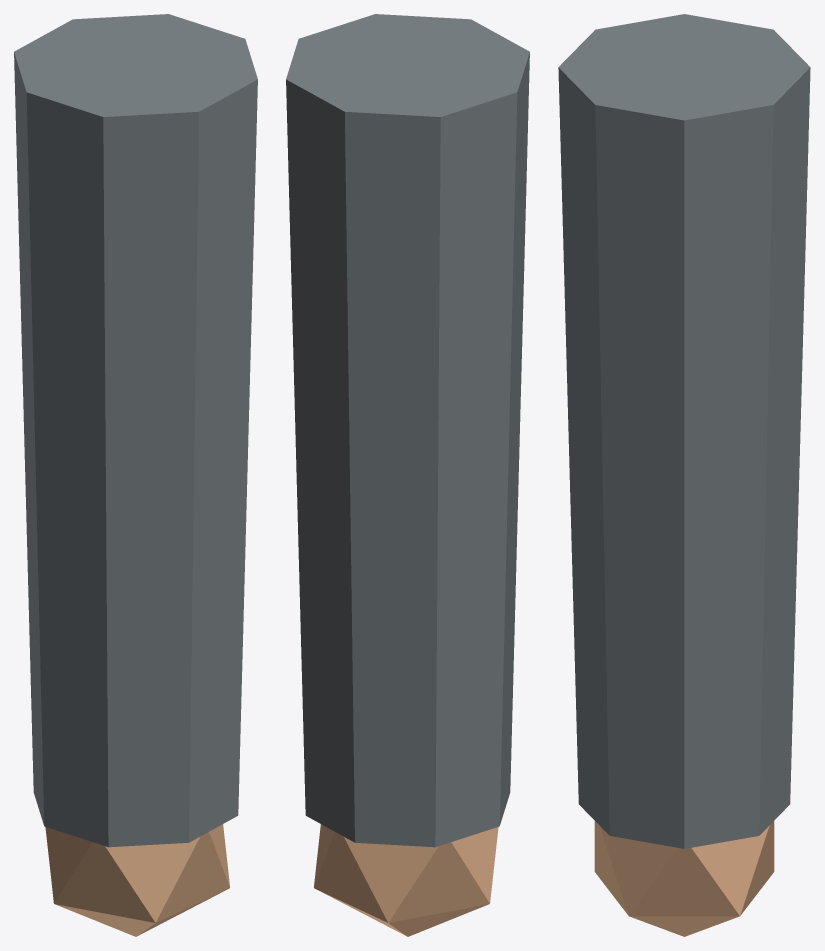
Rendered from insan_e3s_kol.glb.
3 views of the same model, side by side, from view 1: azimuth 30°, elevation 25°; view 2: azimuth 150°, elevation 25°; view 3: azimuth 270°, elevation 25° (orthographic).
Parts seen in each view (by area): view 1: Cone; view 2: Cone; view 3: Cone.
Part boxes in pixels (x1=…): Cone: x1=14, y1=14, x2=257, y2=936; Cone: x1=286, y1=14, x2=529, y2=936; Cone: x1=558, y1=14, x2=810, y2=936.
Size of the model in its own units: 0.031 by 0.118 by 0.031.
